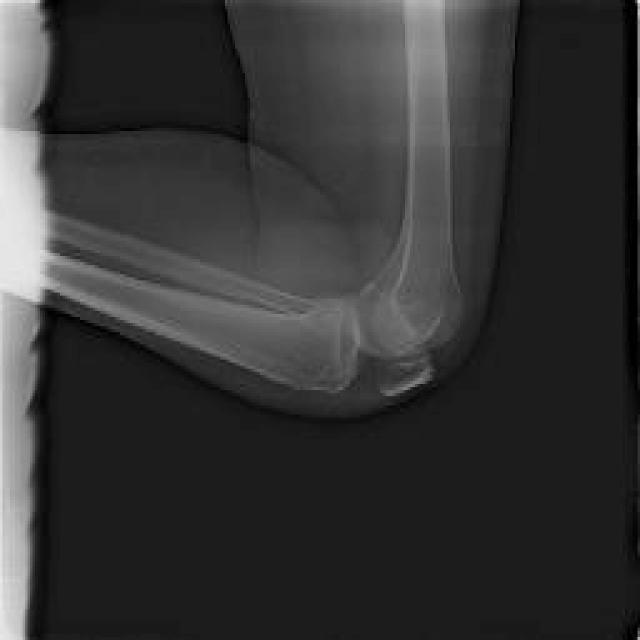normal: (46, 3, 456, 395)
